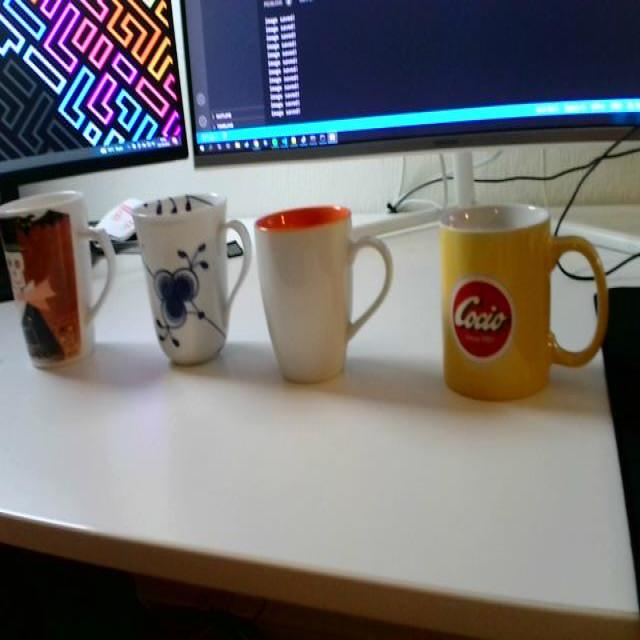cup: (438, 173, 618, 412), (249, 190, 399, 402), (128, 176, 252, 386), (0, 177, 120, 383)
